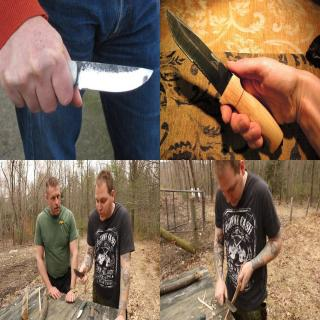knife: (165, 5, 285, 157), (24, 54, 154, 114), (214, 287, 238, 315), (71, 265, 87, 285)
